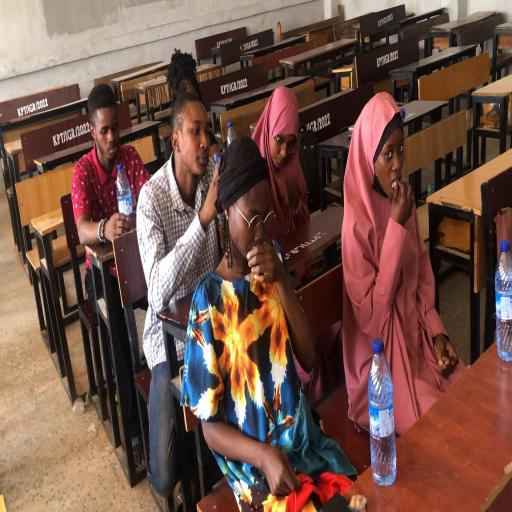Eating: (340, 91, 467, 436), (368, 338, 398, 488)
Usingmobile: (178, 136, 338, 507), (136, 94, 220, 500), (252, 85, 311, 250)
